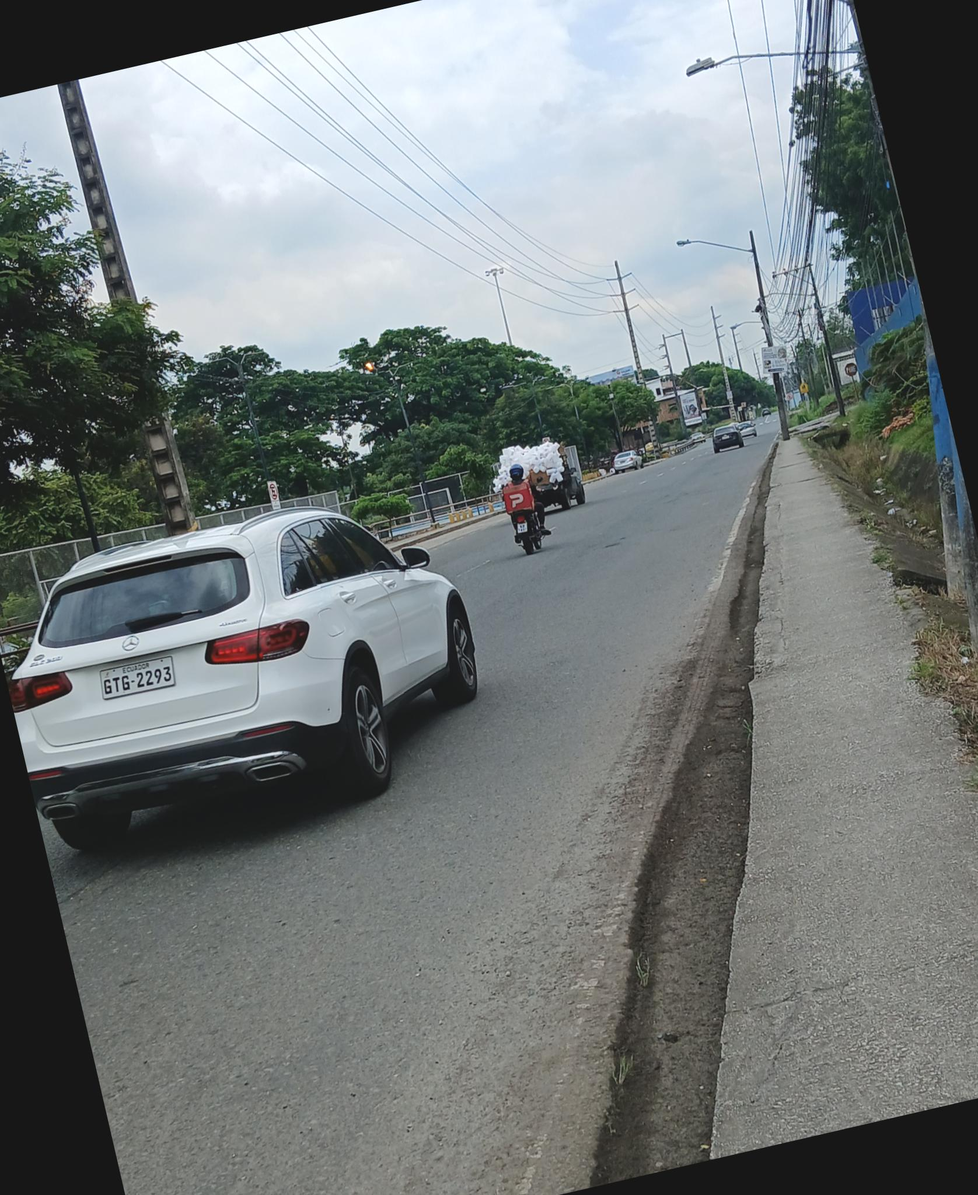license_plate: (95, 655, 175, 700), (514, 519, 529, 534), (717, 434, 730, 441)
